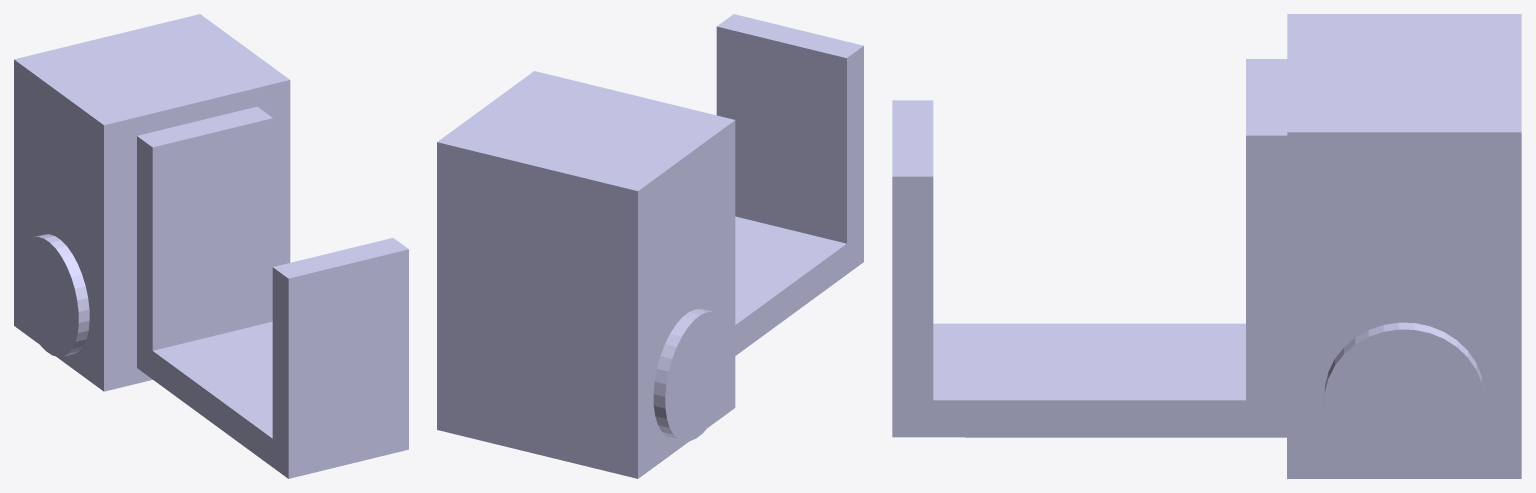
File: dbAlpha_URDF_Leg_Abdomen_RearLeft_Link1__87__.dae
3 renders of one model, left to right at view 1: azimuth 30°, elevation 25°; view 2: azimuth 150°, elevation 25°; view 3: azimuth 270°, elevation 25°, orthographic. The views are drawn at different scales.
Visible parts, largest first — view 1: Node_0x7f7afcdf7b20 (×5); view 2: Node_0x7f7afcdf7b20 (×4); view 3: Node_0x7f7afcdf7b20 (×5).
Boxes of the visible parts, x1,y1,x2,y2 form: Node_0x7f7afcdf7b20 (×5): (14,14,408,478); Node_0x7f7afcdf7b20 (×4): (437,14,863,478); Node_0x7f7afcdf7b20 (×5): (892,14,1521,478).
Size of the model in its own units: 0.038 by 0.0465 by 0.0765.
